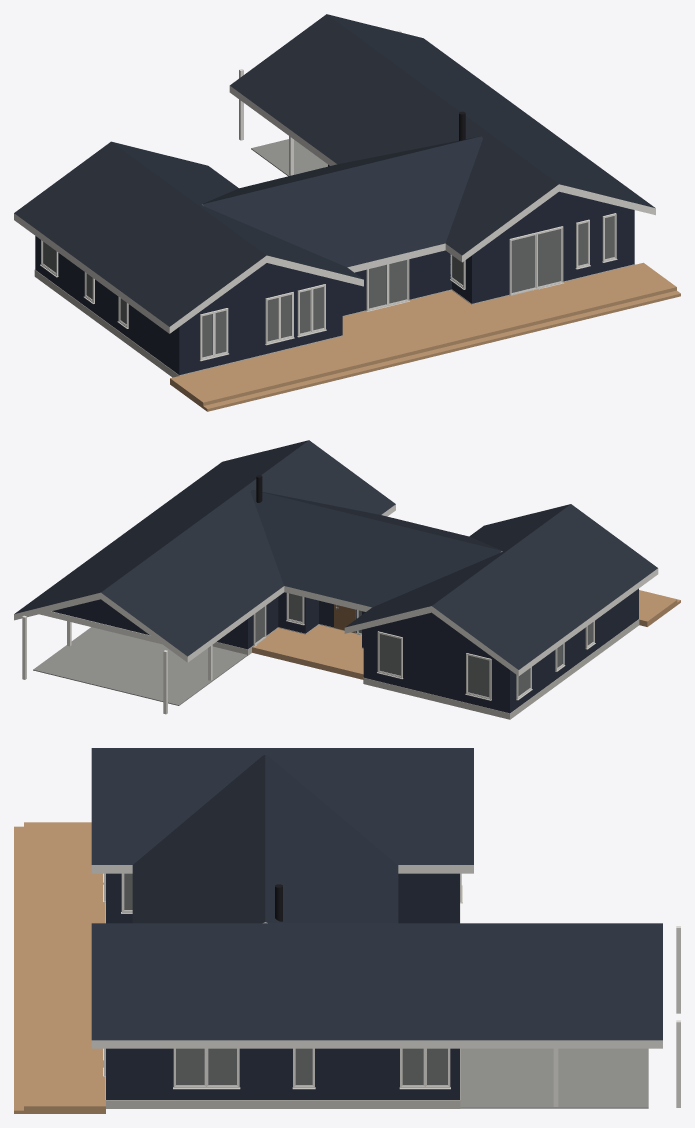
Rendered from teder187_c1_p0_m0.glb.
3 views of the same model, one above another, from view 1: azimuth 30°, elevation 25°; view 2: azimuth 150°, elevation 25°; view 3: azimuth 270°, elevation 25° (orthographic). The views are drawn at different scales.
Parts seen in each view (by area): view 1: roof, deck, wall, glass, curtain, fascia, frame, plinth, paving; view 2: roof, wall, paving, fascia, deck, glass, curtain, plinth, frame, door; view 3: roof, deck, wall, paving, fascia, glass, curtain, plinth, frame.
Boxes of the visible parts, x1,y1,x2,y2 form: roof: (14,14,654,326); deck: (170,262,680,411); wall: (35,164,634,375); glass: (43,216,614,357); curtain: (43,216,613,356); fascia: (14,30,655,333); frame: (40,213,617,361); plinth: (34,264,635,377); paving: (251,139,327,176); roof: (15,440,657,669); wall: (52,588,638,713); paving: (33,627,247,705); fascia: (14,504,658,714); deck: (252,590,680,679); glass: (255,593,593,697); curtain: (255,593,592,696); plinth: (212,619,639,719); frame: (253,593,595,700); door: (334,604,355,632); roof: (91,748,662,1040); deck: (14,822,105,1113); wall: (106,873,459,1099); paving: (460,1048,648,1108); fascia: (91,865,680,1107); glass: (124,873,447,1085); curtain: (124,873,447,1084); plinth: (105,902,460,1108); frame: (103,873,462,1089).
Bounding box in the file's own units: 21.93 × 5.66 × 21.19.
13 materials, 5 textured.
